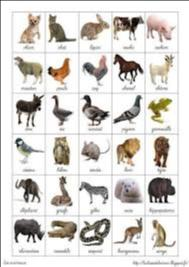Non_Gorille: (24, 15, 172, 256)
